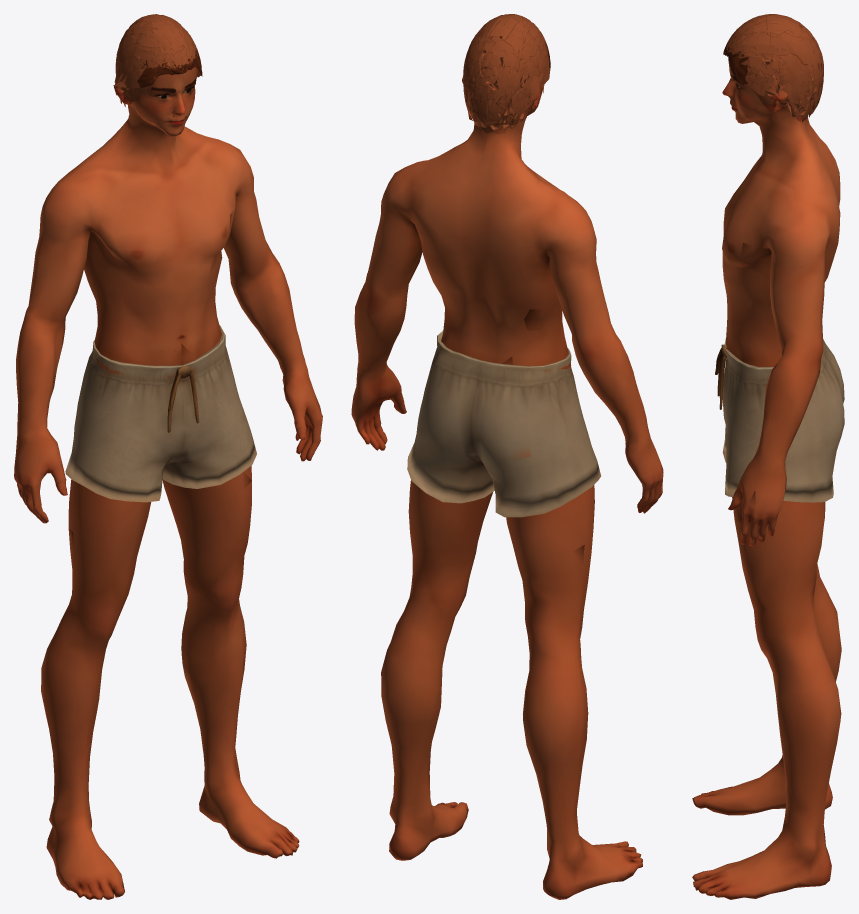
The model's file is koerper-glatze.glb.
3 renders of one model, left to right at view 1: azimuth 30°, elevation 25°; view 2: azimuth 150°, elevation 25°; view 3: azimuth 270°, elevation 25°, orthographic.
Visible parts, largest first — view 1: koerper; view 2: koerper; view 3: koerper.
Part boxes in pixels (x1,y1,x2,y2): koerper: (14,14,322,899); koerper: (351,14,663,899); koerper: (692,14,844,899).
Size of the model in its own units: 0.6704 by 1.78 by 0.2962.
Materials: 1 (1 with a texture image).
